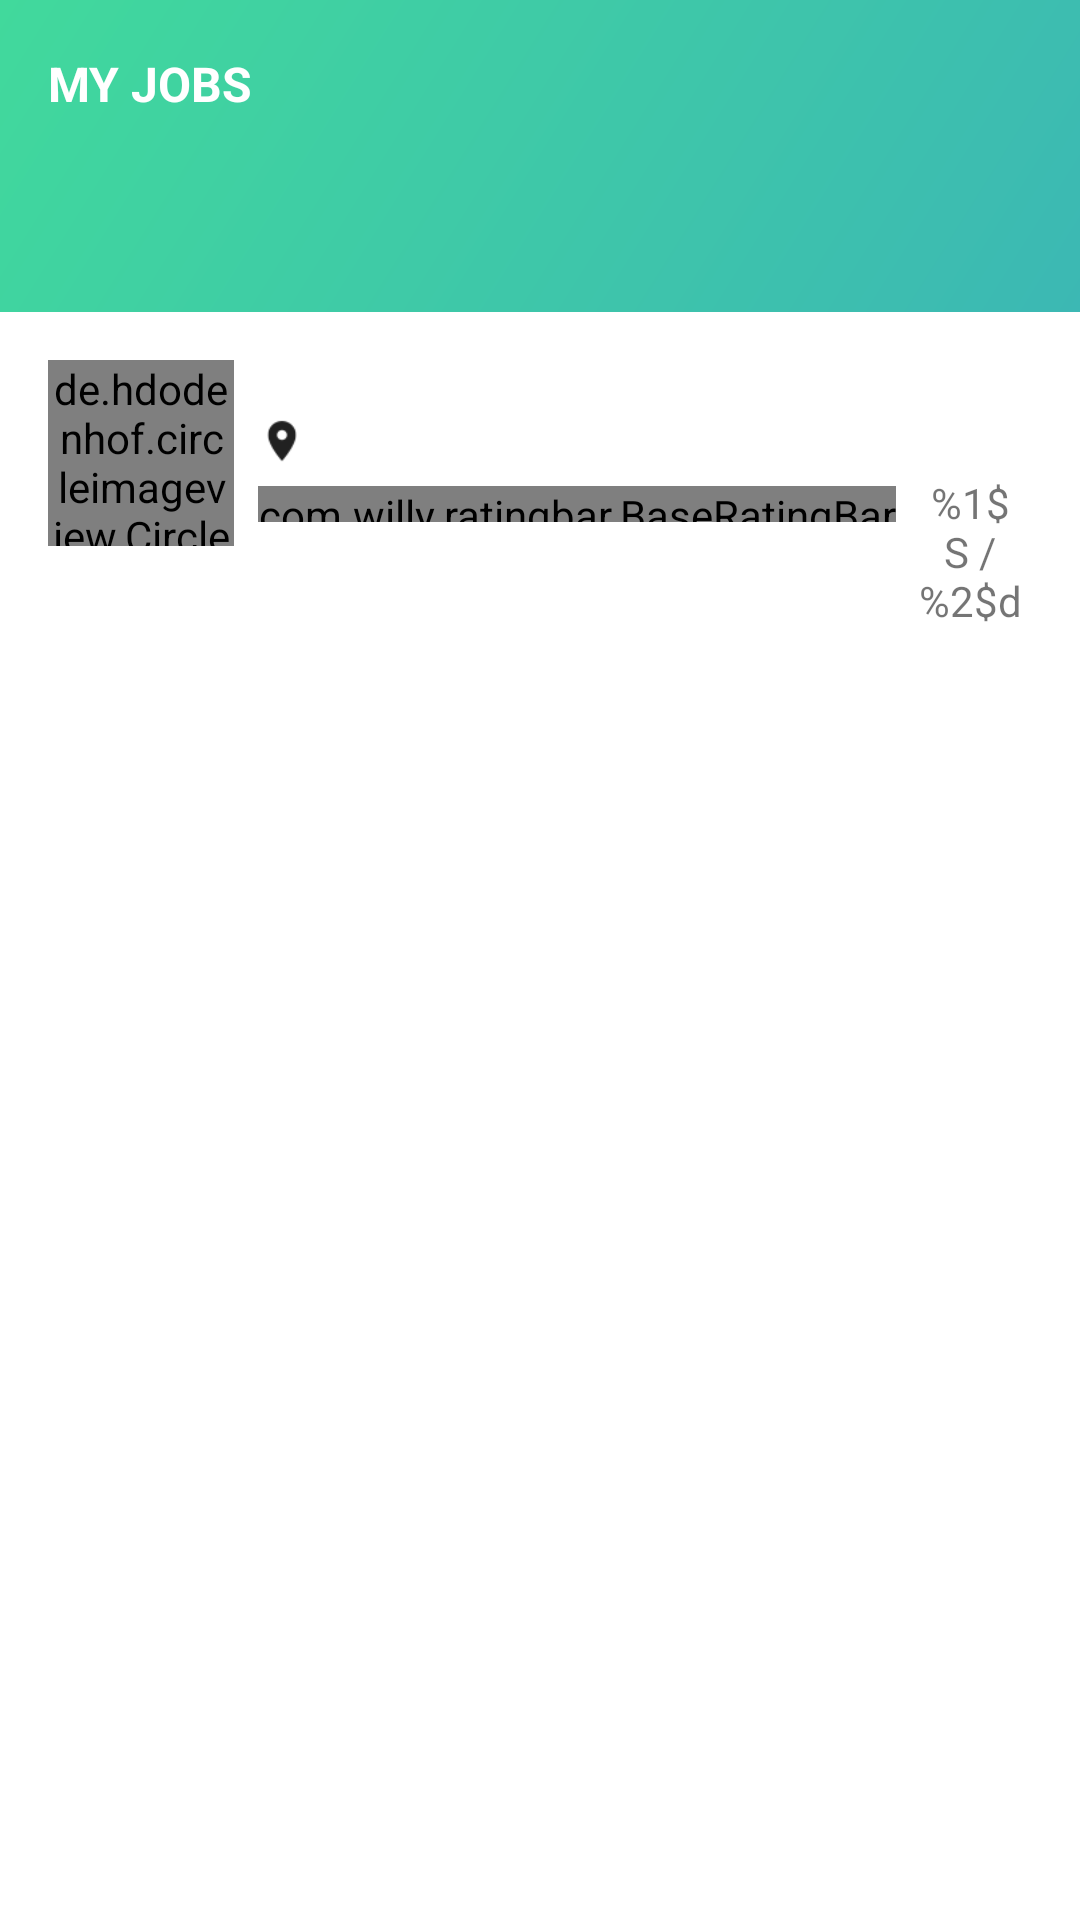

Point at icon controls on the screen. Image size 1080*1920, points as (x=x, y=y).
place: (x=282, y=440)
